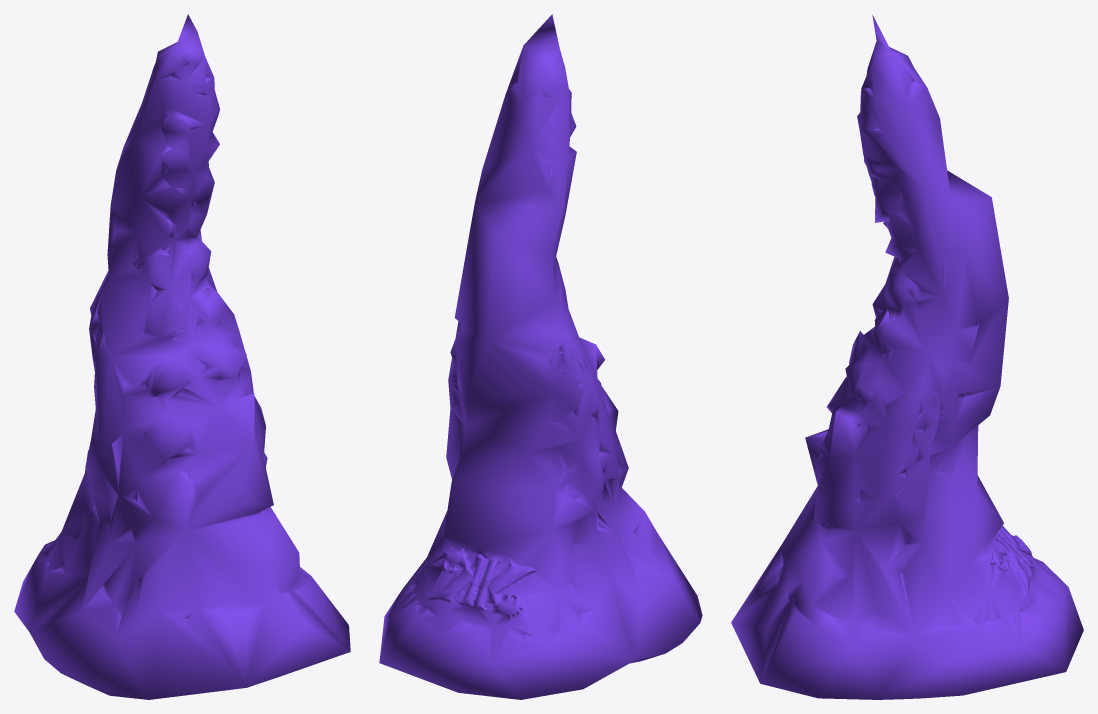
Rendered from small-suction-ar.glb.
The picture shows the model from 3 angles, left to right: view 1: azimuth 30°, elevation 25°; view 2: azimuth 150°, elevation 25°; view 3: azimuth 270°, elevation 25°; orthographic projection. The views are drawn at different scales.
Size of the model in its own units: 0.1121 by 0.2485 by 0.1281.
